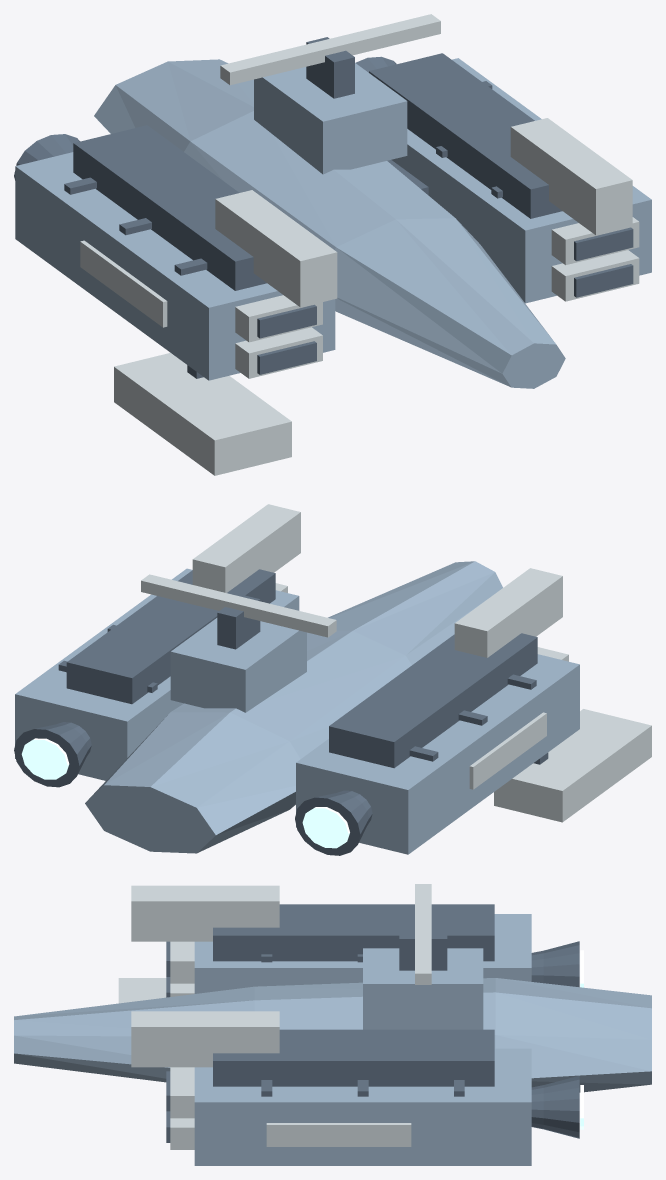
The picture shows the model from 3 angles, top to bottom: view 1: azimuth 30°, elevation 25°; view 2: azimuth 150°, elevation 25°; view 3: azimuth 270°, elevation 25°; orthographic projection. The views are drawn at different scales.
Bounding box in the file's own units: 13.16 × 6.06 × 17.22.
